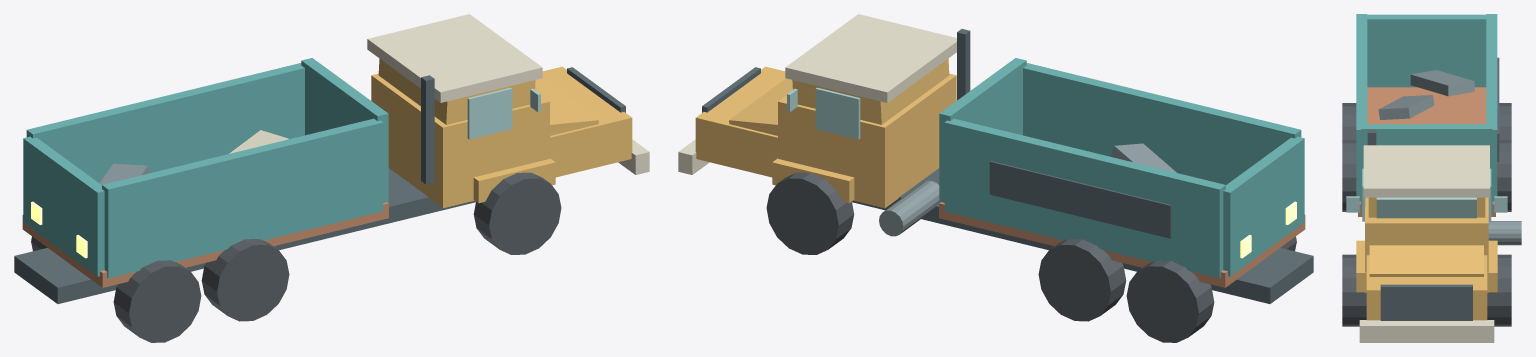
The model's file is SalvageTruck.glb.
3 views of the same model, side by side, from view 1: azimuth 30°, elevation 25°; view 2: azimuth 150°, elevation 25°; view 3: azimuth 270°, elevation 25° (orthographic). The views are drawn at different scales.
Visible parts, largest first — view 1: SalvageTruck_ChassisRail; view 2: SalvageTruck_ChassisRail; view 3: SalvageTruck_ChassisRail.
Boxes of the visible parts, x1,y1,x2,y2 form: SalvageTruck_ChassisRail: (14,14,649,342); SalvageTruck_ChassisRail: (678,14,1313,342); SalvageTruck_ChassisRail: (1342,14,1521,342).
Size of the model in its own units: 36.55 by 11.15 by 11.45.
